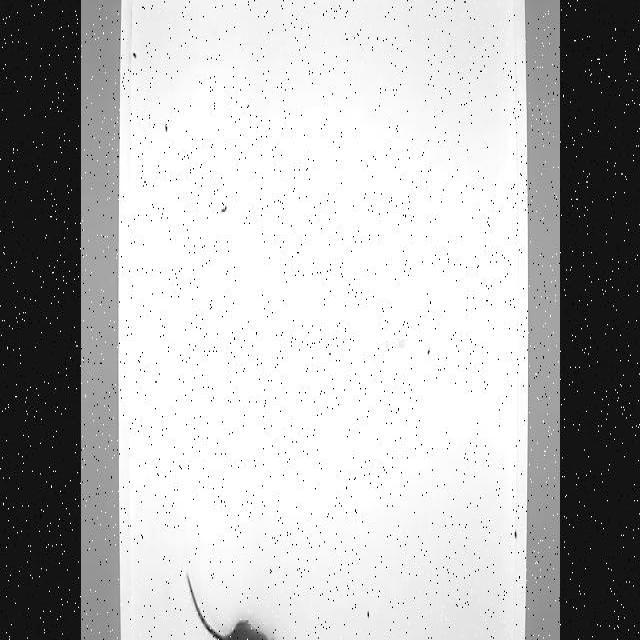rat: (184, 572, 283, 640)
